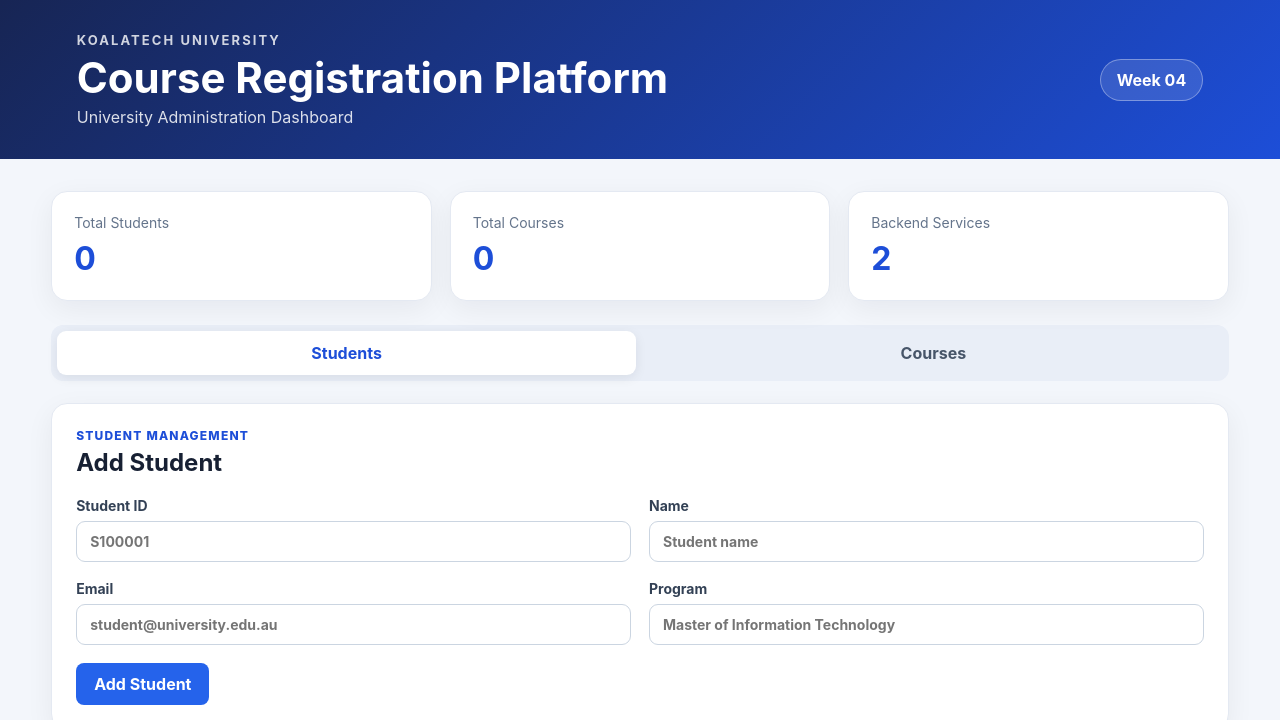
Test: Course Registration Platform › switches to the course tab
Click the button "Courses".
click(933, 353)  # box [644, 331, 1223, 375]
(page scrolled)
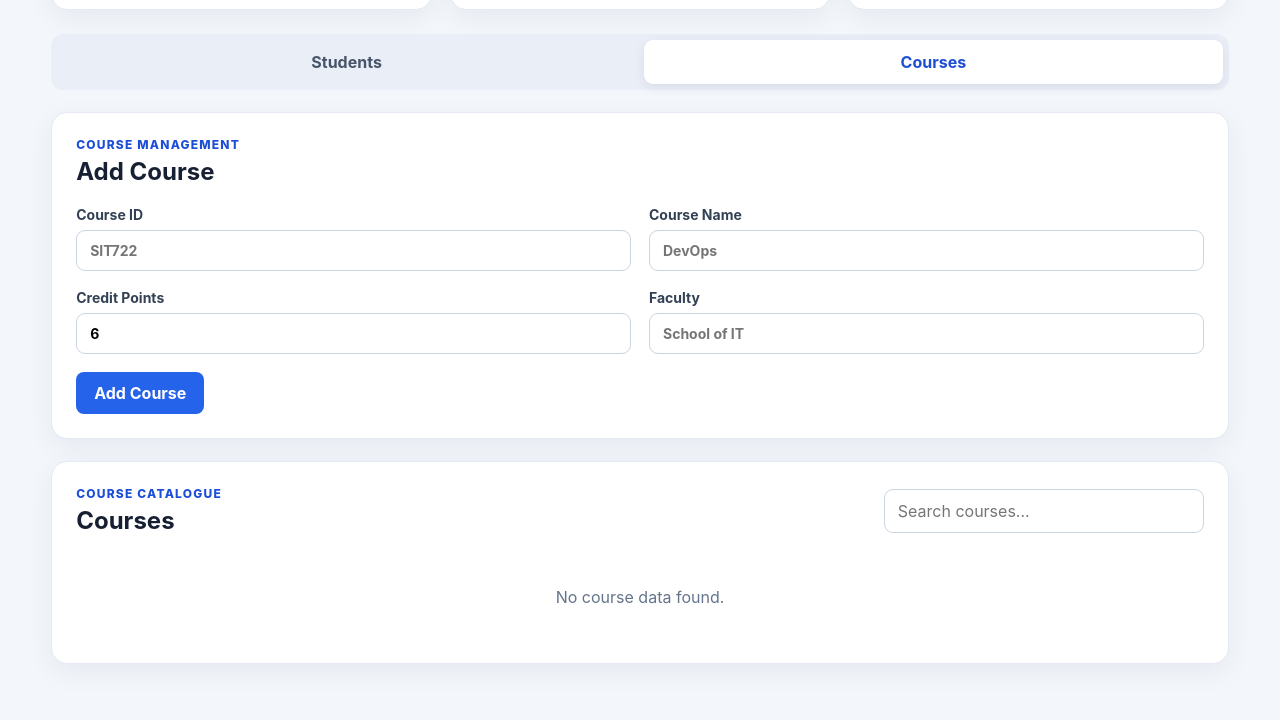
Now the heading "Add Course" is shown, box [76, 157, 214, 186]
Now the text "No course data found." is shown, box [556, 587, 724, 607]
